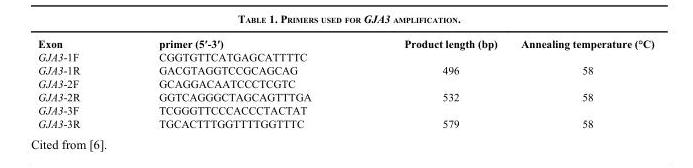table: (37, 37, 653, 129)
table column: (118, 37, 357, 129), (357, 37, 508, 129), (508, 37, 653, 129), (37, 37, 118, 129)
table column header: (37, 37, 653, 49)
table row: (37, 49, 653, 63), (37, 89, 653, 103), (37, 63, 653, 76), (37, 76, 653, 89), (37, 103, 653, 116), (37, 116, 653, 129), (37, 37, 653, 49)
